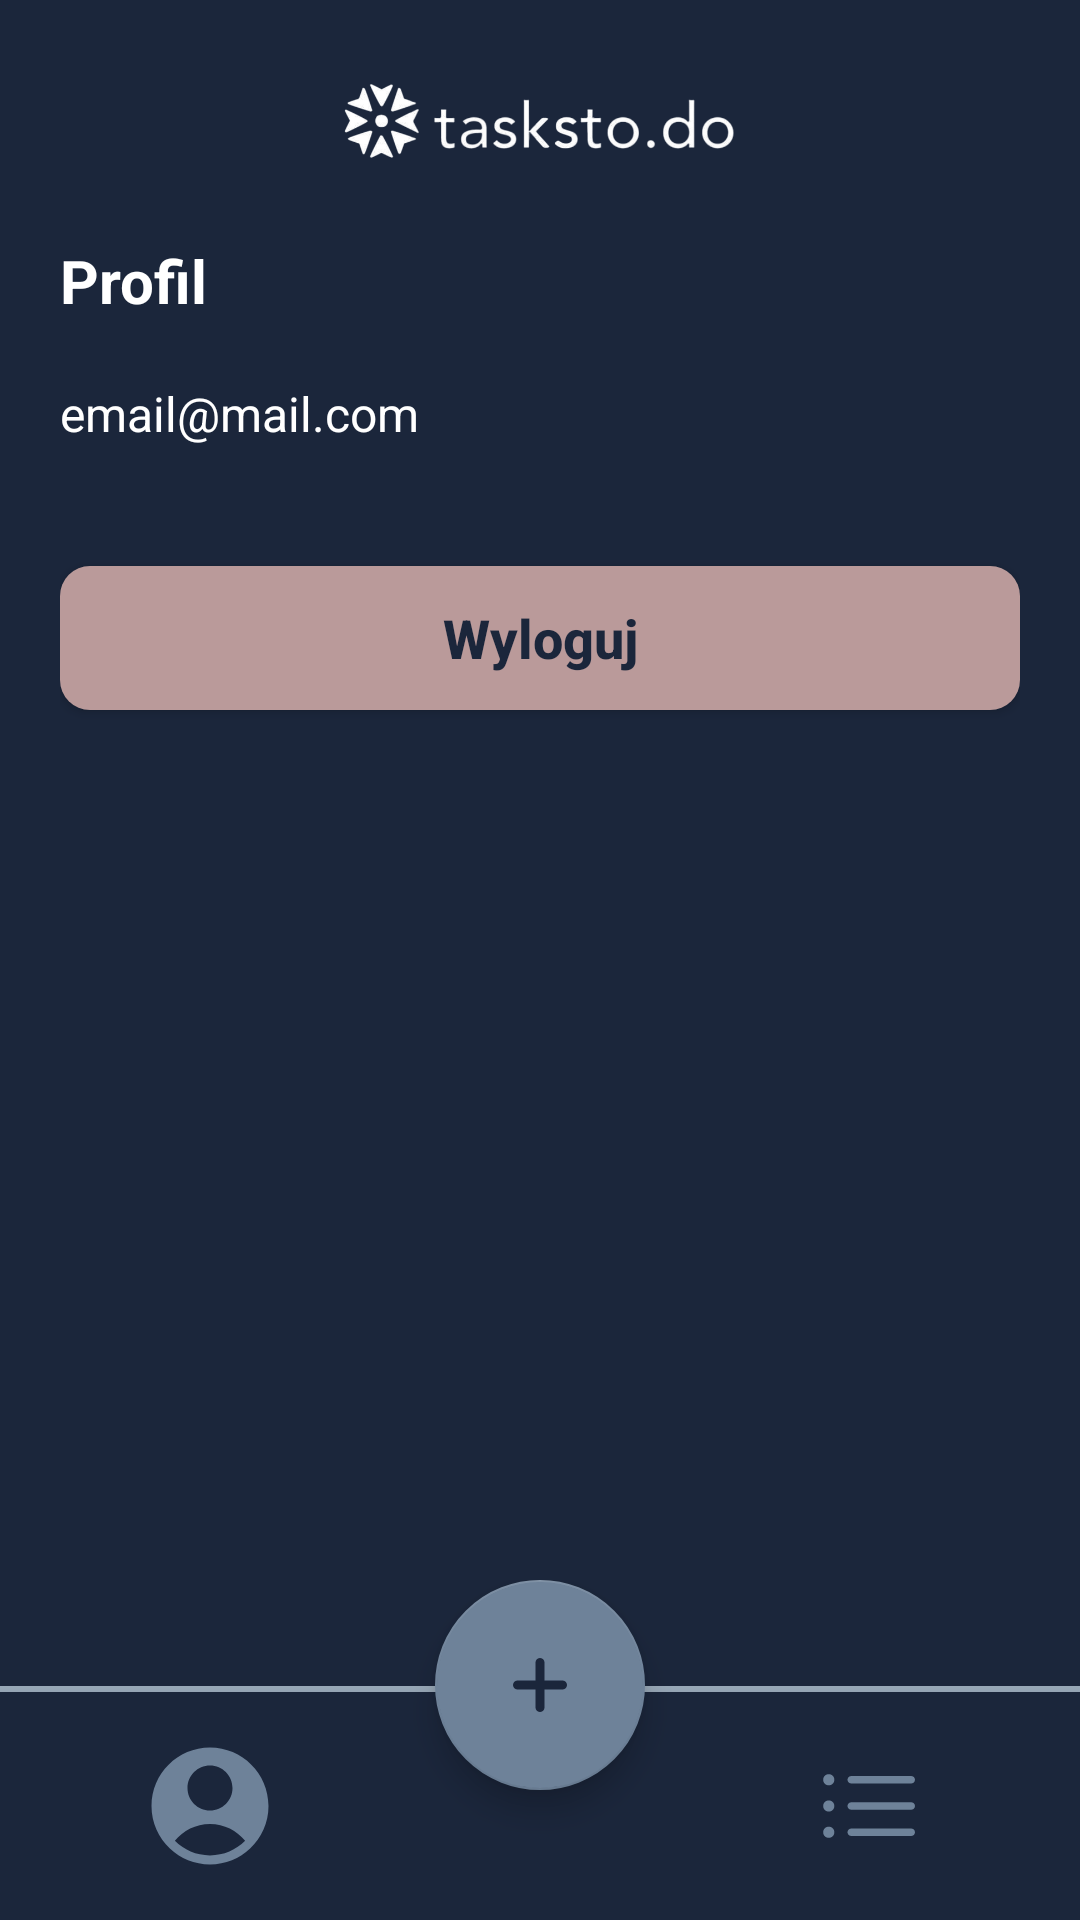

Where icons sit on this 1080w x 1920h app screen, as bbox(x1, y1, x2, y2):
Add task: bbox(435, 1580, 645, 1790)
User: bbox(151, 1747, 269, 1865)
